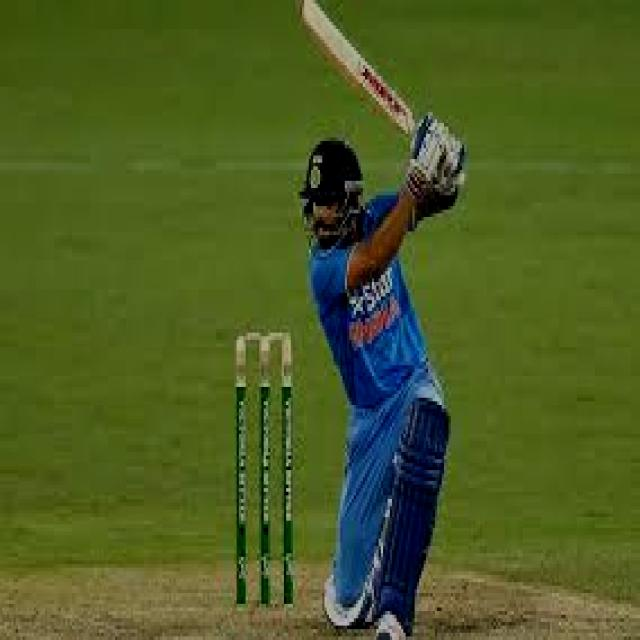toe: (299, 0, 333, 44)
